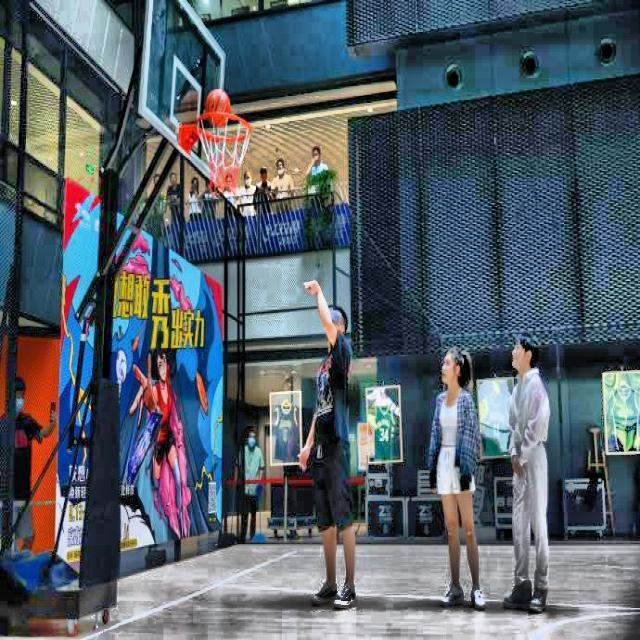board: (205, 90, 231, 127)
rim: (192, 113, 253, 194)
